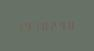four: (57, 19, 64, 30)
nine: (25, 20, 32, 31)
one: (17, 20, 24, 31)
seven: (33, 20, 40, 31)
two: (49, 19, 56, 30)
zero: (65, 19, 72, 30), (41, 20, 48, 30)
